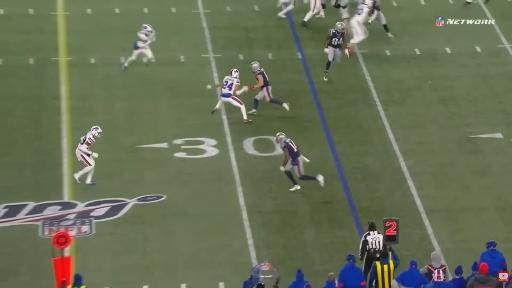Helmet: (91, 126, 102, 138), (335, 22, 345, 32), (276, 132, 285, 142), (229, 69, 239, 78), (142, 24, 153, 31), (251, 61, 259, 70)
Jersey: (353, 0, 374, 23), (281, 139, 300, 162), (78, 132, 95, 155), (221, 76, 239, 97), (328, 29, 345, 49), (255, 68, 269, 89), (133, 40, 148, 50)
Player: (276, 133, 324, 191), (212, 69, 251, 123), (249, 62, 289, 114), (74, 126, 102, 184), (348, 0, 374, 51), (324, 22, 346, 80), (123, 31, 154, 70), (368, 0, 393, 38), (302, 0, 321, 27), (331, 0, 349, 19), (278, 0, 295, 18), (142, 24, 155, 41), (464, 0, 473, 5)
